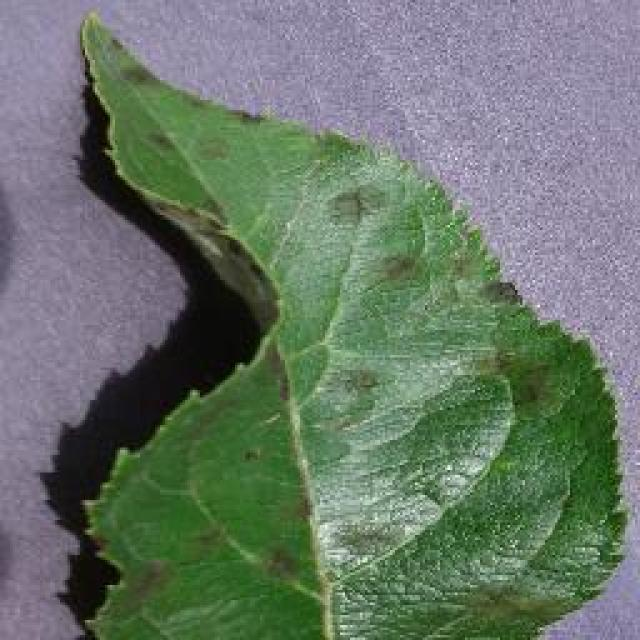apple scab disease: (65, 8, 633, 638)
